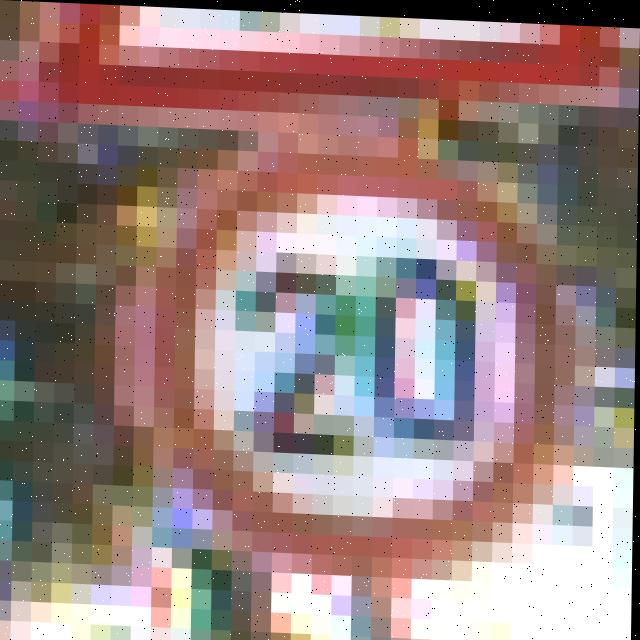speed_limit_20: (106, 122, 576, 585)
